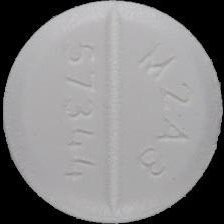66267-003: (0, 0, 224, 224)
